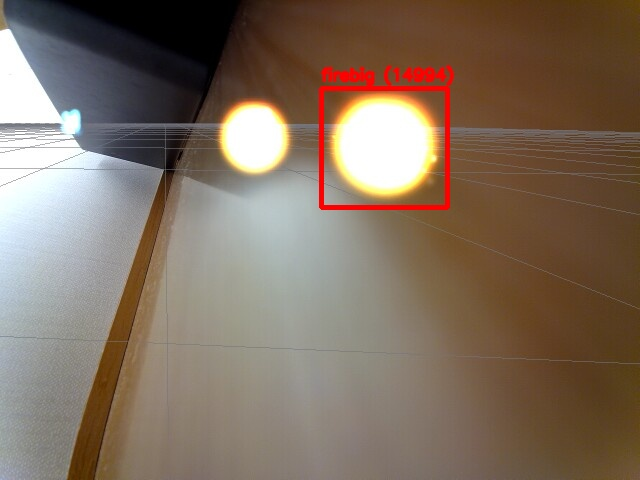firebig: (321, 88, 447, 207)
